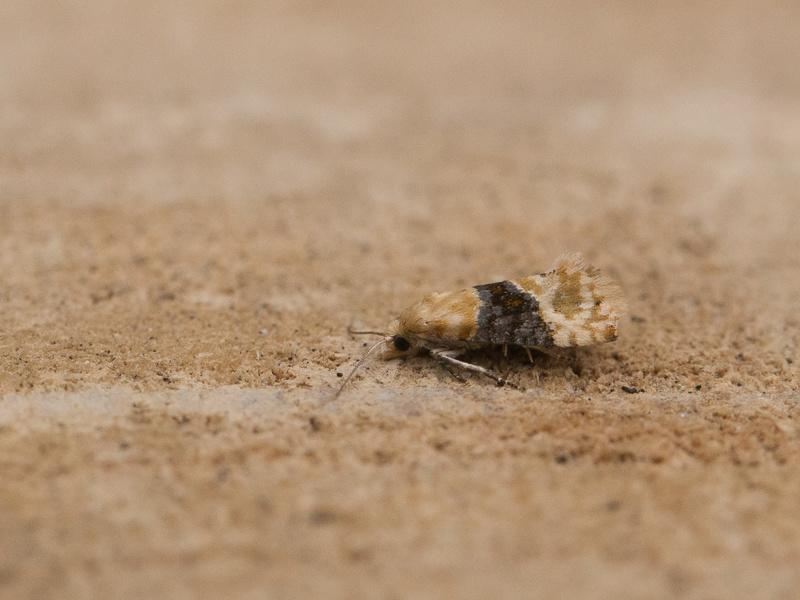Eupoecilia Ambiguella: (323, 249, 633, 407)
